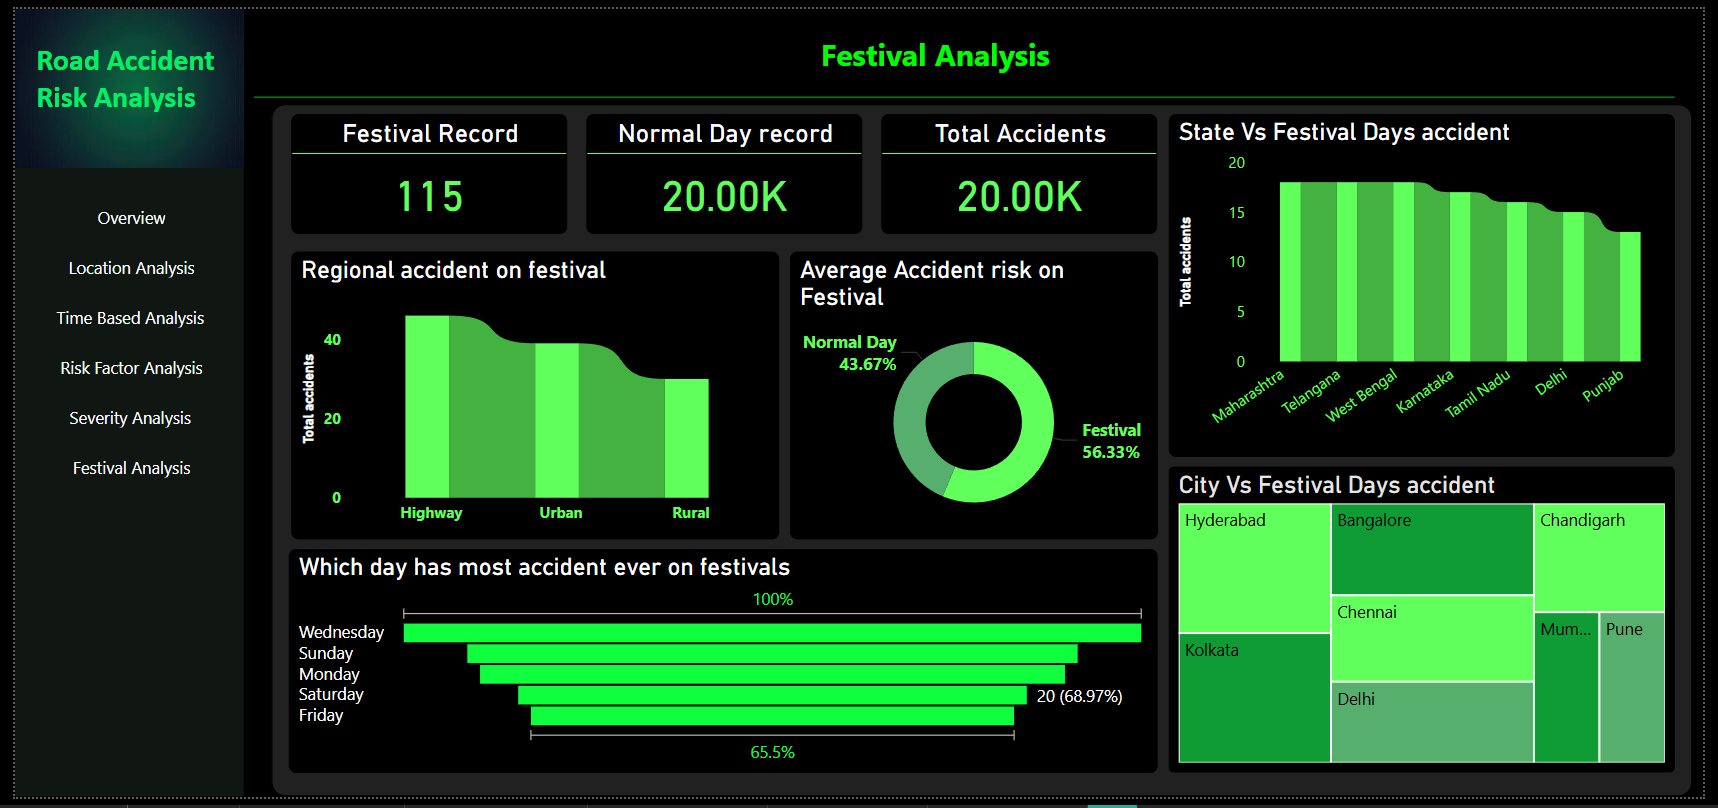

Layout of this report page (visuals, bound fields, positions):
{"tool":"powerbi","page":{"name":"Festival  Analysis","canvas":[1350,630],"ordinal":5},"visuals":[{"type":"shape","box":[0,0,183,630],"z":0},{"type":"image","box":[0,0,183,127],"z":1000},{"type":"textbox","box":[12,21,160,85],"z":2000},{"type":"actionButton","box":[13,146,160,40],"z":3000},{"type":"actionButton","box":[13,186,160,40],"z":4000},{"type":"actionButton","box":[12,226,160,40],"z":5000},{"type":"actionButton","box":[13,266,160,40],"z":6000},{"type":"actionButton","box":[12,306,160,40],"z":7000},{"type":"actionButton","box":[13,346,160,40],"z":8000},{"type":"shape","box":[191,65,1137,11],"z":9000},{"type":"shape","box":[205,76,1137,554],"z":10000},{"type":"textbox","box":[586,15,300,42],"z":11000},{"type":"card","title":"Total Accidents","fields":{"Values":["CountNonNull(public accidents.accident_id)"]},"box":[693,84,221,96],"z":12000},{"type":"ribbonChart","title":"State Vs Festival Days accident","fields":{"Category":["public accidents.state"],"Y":["public accidents.festivalcount"]},"box":[923,84,405,274],"z":13000},{"type":"donutChart","title":"Average Accident risk on Festival","fields":{"Category":["public accidents.Festival Status"],"Y":["Avg(public accidents.risk_score)"]},"box":[620,194,294,230],"z":14000},{"type":"ribbonChart","title":"Regional accident on festival","fields":{"Category":["public accidents.road_type"],"Y":["public accidents.festivalcount"]},"box":[221,194,390,230],"z":15000},{"type":"funnel","title":"Which day has most accident ever on festivals","fields":{"Category":["public accidents.day_of_week"],"Y":["public accidents.festivalcount"]},"box":[219,432,695,179],"z":16000},{"type":"treemap","title":"City Vs Festival Days accident","fields":{"Group":["public accidents.city"],"Values":["public accidents.festivalcount"]},"box":[923,366,405,245],"z":17000},{"type":"card","title":"Festival Record","fields":{"Values":["public accidents.festivalcount"]},"box":[221,84,221,96],"z":18000},{"type":"card","title":"Normal Day record","fields":{"Values":["CountNonNull(public accidents.accident_id)"]},"box":[457,84,221,96],"z":19000}]}

Visuals, with their boxes in screenshot pixels (x1, y1, x2, y2), scaled from the page's 1350x630 canvas onto the 1718x808 screenshot:
shape: pyautogui.locateOnScreen(0, 0, 233, 807)
image: pyautogui.locateOnScreen(0, 0, 233, 163)
textbox: pyautogui.locateOnScreen(15, 27, 219, 136)
actionButton: pyautogui.locateOnScreen(17, 187, 220, 239)
actionButton: pyautogui.locateOnScreen(17, 239, 220, 290)
actionButton: pyautogui.locateOnScreen(15, 290, 219, 341)
actionButton: pyautogui.locateOnScreen(17, 341, 220, 392)
actionButton: pyautogui.locateOnScreen(15, 392, 219, 444)
actionButton: pyautogui.locateOnScreen(17, 444, 220, 495)
shape: pyautogui.locateOnScreen(243, 83, 1690, 97)
shape: pyautogui.locateOnScreen(261, 97, 1708, 807)
textbox: pyautogui.locateOnScreen(746, 19, 1128, 73)
"Total Accidents" card: pyautogui.locateOnScreen(882, 108, 1163, 231)
"State Vs Festival Days accident" ribbonChart: pyautogui.locateOnScreen(1175, 108, 1690, 459)
"Average Accident risk on Festival" donutChart: pyautogui.locateOnScreen(789, 249, 1163, 544)
"Regional accident on festival" ribbonChart: pyautogui.locateOnScreen(281, 249, 778, 544)
"Which day has most accident ever on festivals" funnel: pyautogui.locateOnScreen(279, 554, 1163, 784)
"City Vs Festival Days accident" treemap: pyautogui.locateOnScreen(1175, 469, 1690, 784)
"Festival Record" card: pyautogui.locateOnScreen(281, 108, 562, 231)
"Normal Day record" card: pyautogui.locateOnScreen(582, 108, 863, 231)
